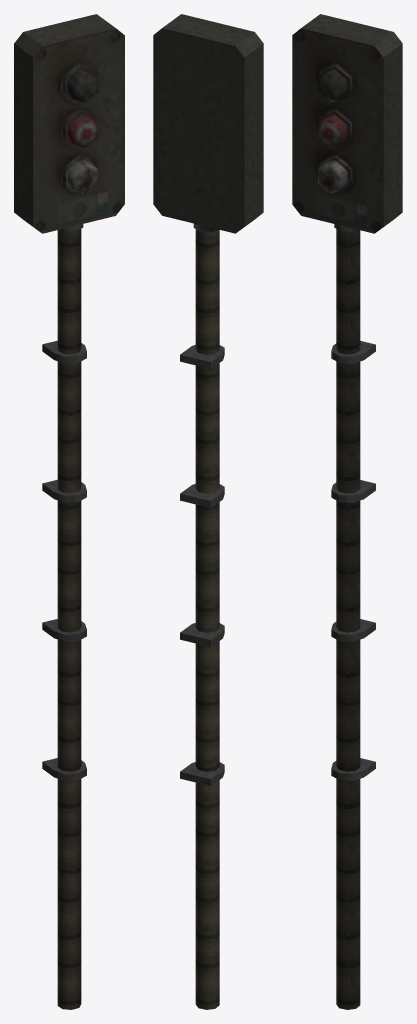
The model's file is button_12.fbx.
3 views of the same model, side by side, from view 1: azimuth 30°, elevation 25°; view 2: azimuth 150°, elevation 25°; view 3: azimuth 330°, elevation 25° (orthographic).
Parts seen in each view (by area): view 1: button_12; view 2: button_12; view 3: button_12.
Part boxes in pixels (x1,y1,x2,y2): button_12: (14, 14, 124, 1009); button_12: (153, 14, 263, 1009); button_12: (292, 14, 402, 1009).
Size of the model in its own units: 0.11 by 0.063 by 1.12.
